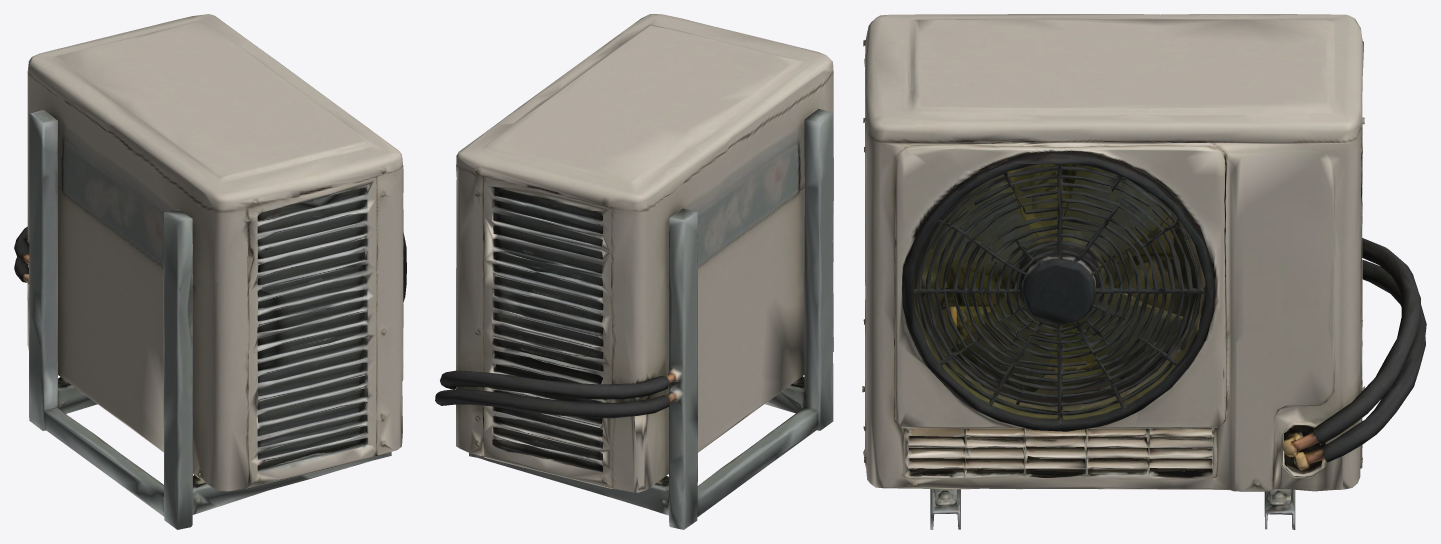
The model's file is acunit.glb.
3 views of the same model, side by side, from view 1: azimuth 30°, elevation 25°; view 2: azimuth 150°, elevation 25°; view 3: azimuth 270°, elevation 25° (orthographic). The views are drawn at different scales.
Parts seen in each view (by area): view 1: tripo_node_7f23abc9-f619-42bd-85ed-d74b16b5947b; view 2: tripo_node_7f23abc9-f619-42bd-85ed-d74b16b5947b; view 3: tripo_node_7f23abc9-f619-42bd-85ed-d74b16b5947b.
Part boxes in pixels (left/top/right/bottom): tripo_node_7f23abc9-f619-42bd-85ed-d74b16b5947b: left=14, top=14, right=406, bottom=529; tripo_node_7f23abc9-f619-42bd-85ed-d74b16b5947b: left=435, top=14, right=833, bottom=529; tripo_node_7f23abc9-f619-42bd-85ed-d74b16b5947b: left=862, top=14, right=1426, bottom=529.
Bounding box in the file's own units: 0.4134 × 0.5997 × 0.711.
1 material, 1 textured.
